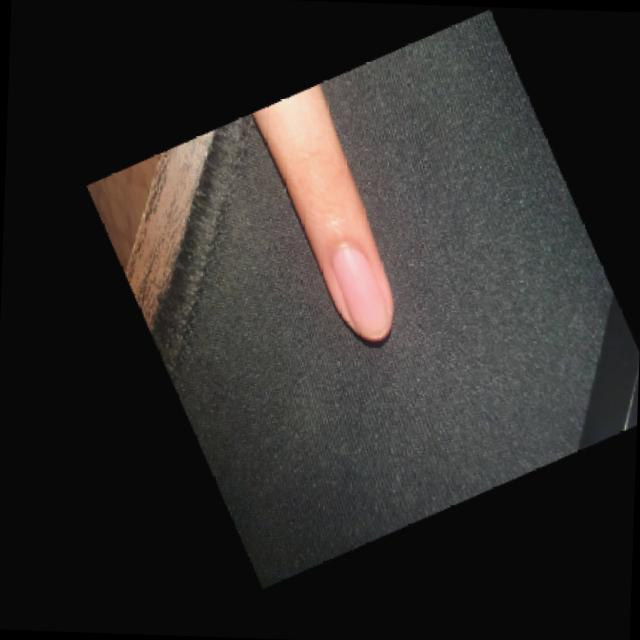Nail: (331, 245, 390, 336)
